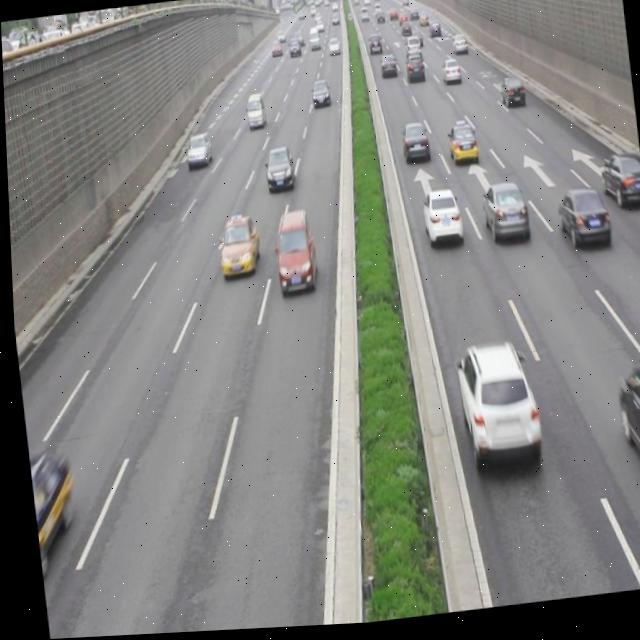car: (448, 341, 538, 474), (24, 449, 74, 549), (609, 368, 640, 501), (551, 190, 609, 257), (477, 183, 527, 249), (212, 214, 260, 281), (416, 189, 461, 252), (594, 155, 640, 213), (261, 148, 294, 197), (443, 124, 477, 171), (397, 122, 429, 170), (183, 132, 210, 171), (497, 79, 525, 116)
truck: (268, 211, 316, 298), (243, 95, 265, 133)
